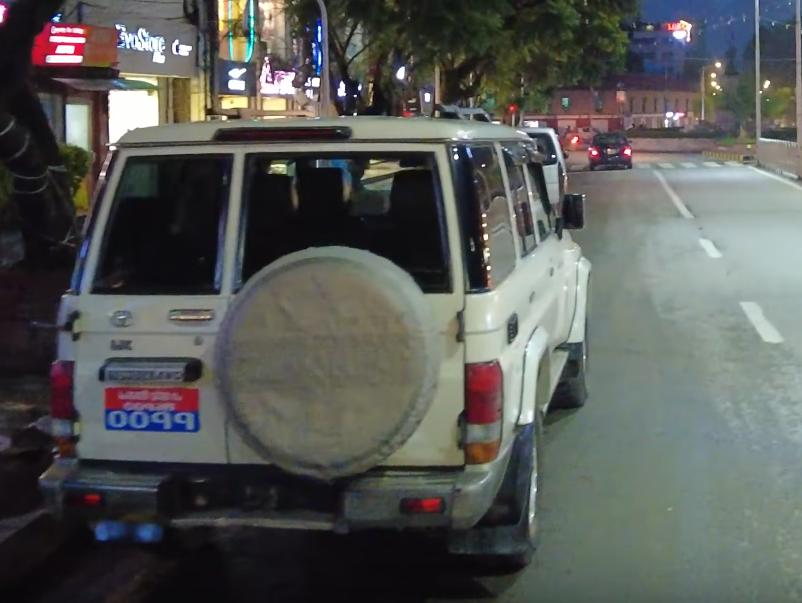SUV: (61, 106, 595, 574)
